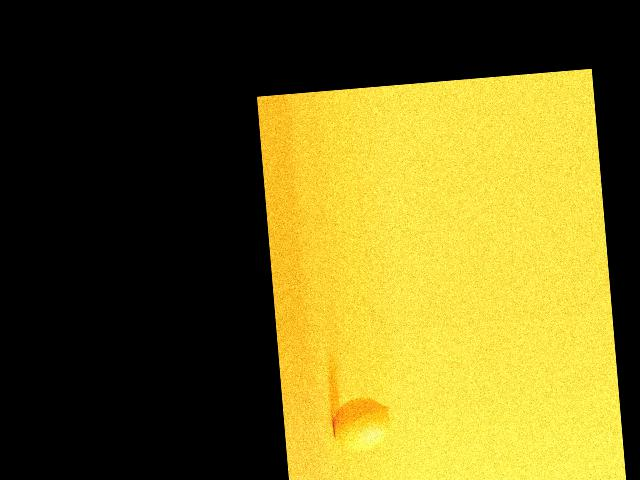lemon: (326, 386, 400, 463)
